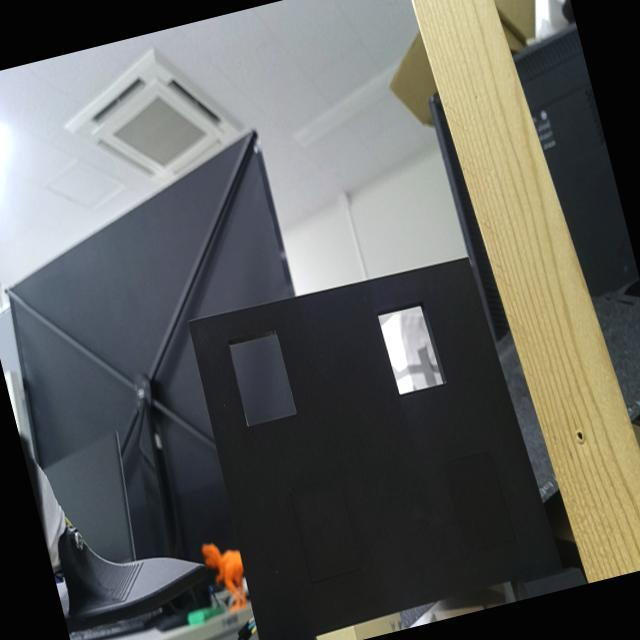Obstacle: (229, 330, 297, 428), (377, 304, 447, 397)
Wall: (186, 258, 561, 640)
